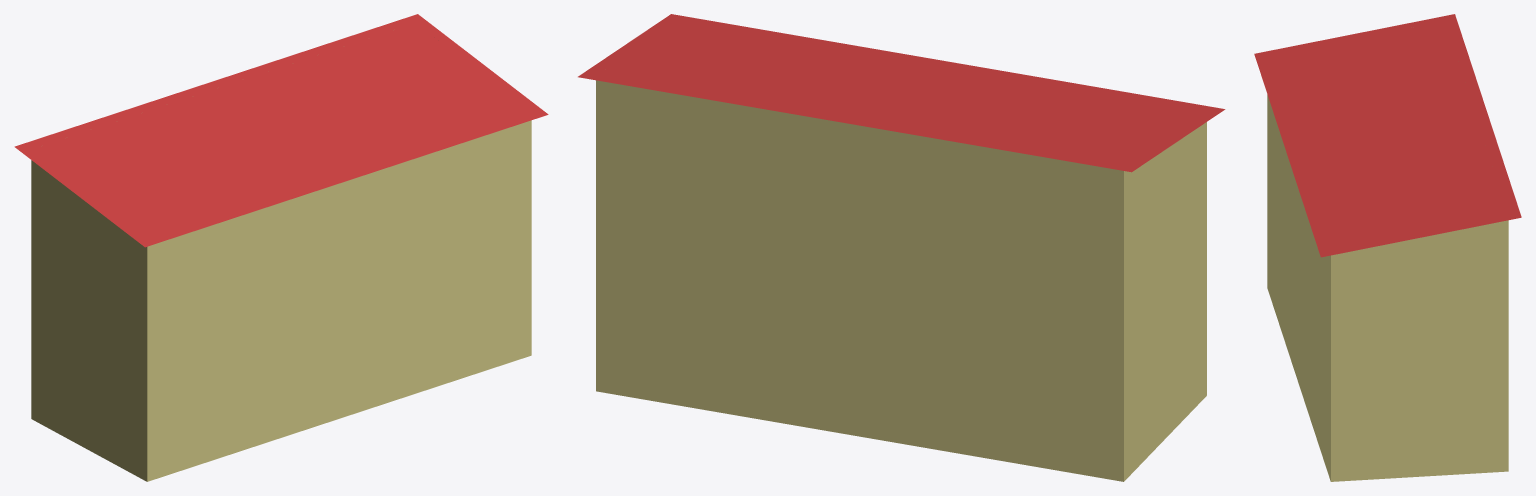
3 views of the same model, side by side, from view 1: azimuth 30°, elevation 25°; view 2: azimuth 150°, elevation 25°; view 3: azimuth 270°, elevation 25° (orthographic). The views are drawn at different scales.
Bounding box in the file's own units: 10.92 × 5.73 × 6.1.
